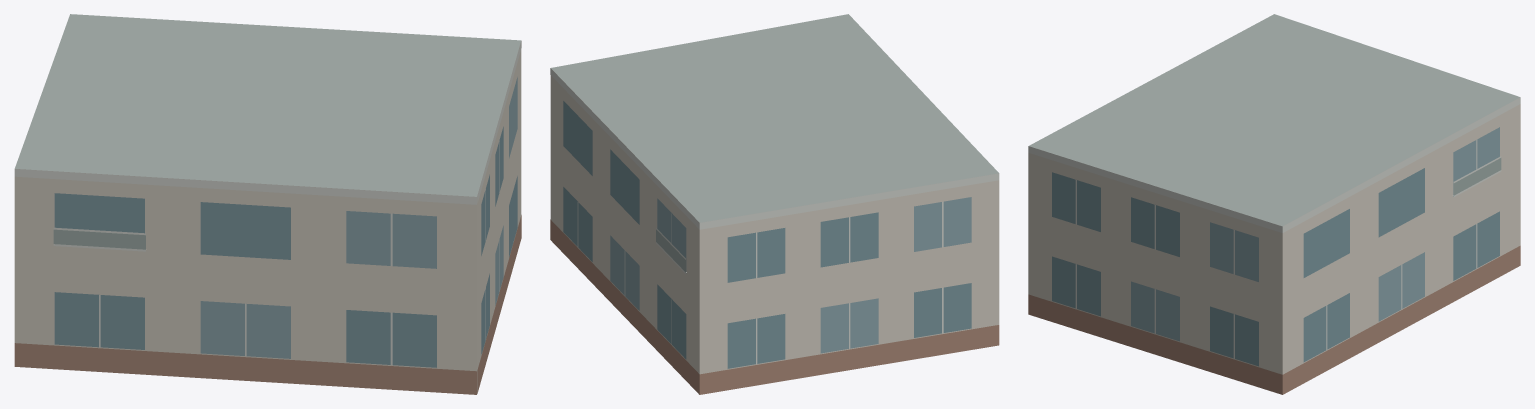
Rendered from survey-upis-32598113.glb.
3 renders of one model, left to right at view 1: azimuth 30°, elevation 25°; view 2: azimuth 150°, elevation 25°; view 3: azimuth 270°, elevation 25°, orthographic. The views are drawn at different scales.
Parts seen in each view (by area): view 1: survey-upis-32598113.tmp; view 2: survey-upis-32598113.tmp; view 3: survey-upis-32598113.tmp.
Boxes of the visible parts, left/top/right/bottom form: survey-upis-32598113.tmp: left=14, top=14, right=521, bottom=394; survey-upis-32598113.tmp: left=550, top=14, right=999, bottom=394; survey-upis-32598113.tmp: left=1028, top=14, right=1520, bottom=394.
Bounding box in the file's own units: 16.51 × 6.1 × 16.16.
